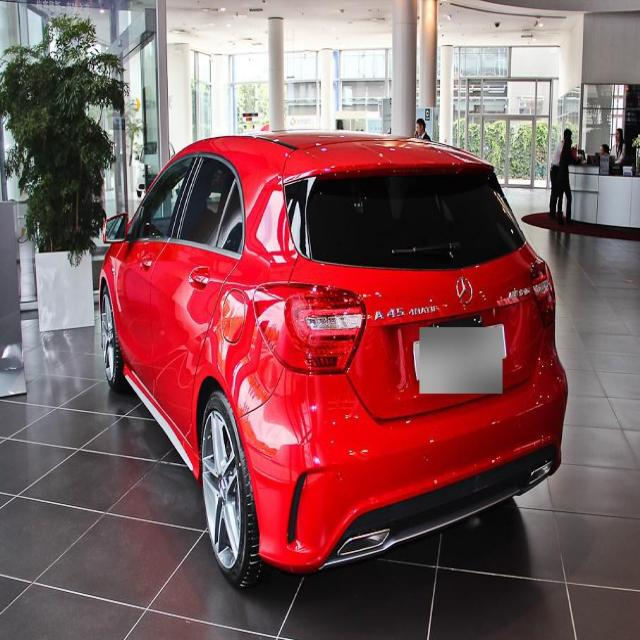back_glass: (284, 161, 528, 275)
back_left_side_light: (252, 278, 368, 379)
back_right_side_light: (527, 252, 559, 334)
front_left_side_door: (111, 147, 203, 394)
front_left_side_light: (100, 207, 132, 250)
rear_bumper: (236, 356, 570, 574)
wheel: (198, 388, 282, 592), (99, 282, 130, 394)
